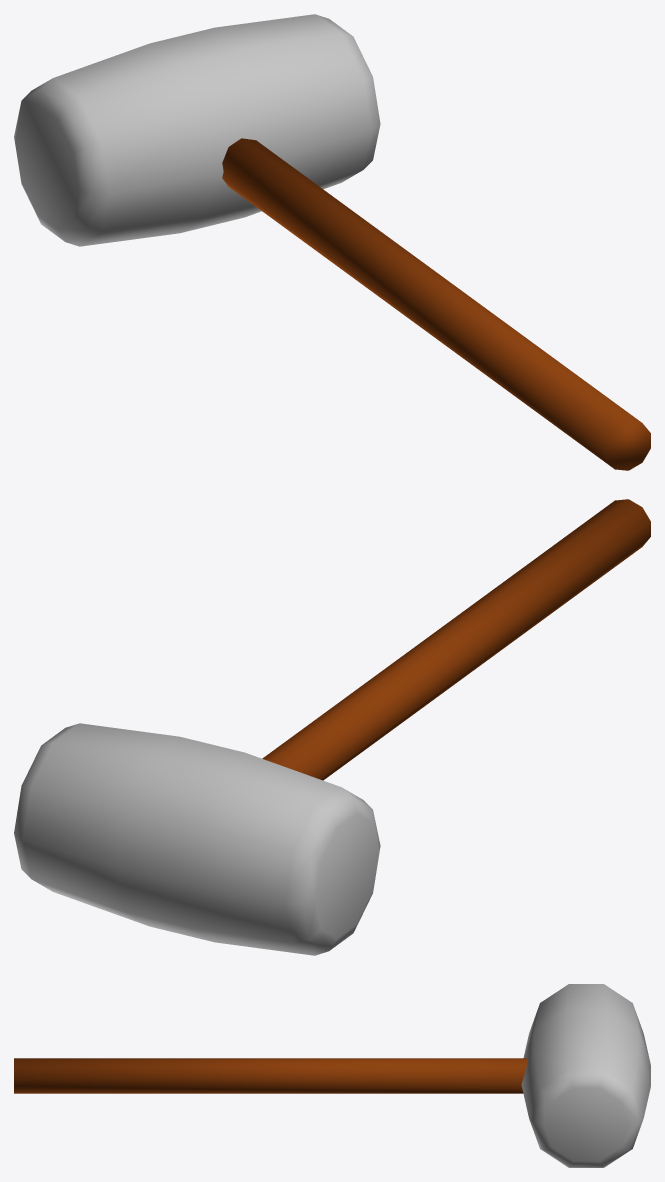
Rendered from Hammer_03.fbx.
3 renders of one model, top to bottom at view 1: azimuth 30°, elevation 25°; view 2: azimuth 150°, elevation 25°; view 3: azimuth 270°, elevation 25°, orthographic. The views are drawn at different scales.
Visible parts, largest first — view 1: Hammer_03; view 2: Hammer_03; view 3: Hammer_03.
Boxes of the visible parts, bbox=[...] form: Hammer_03: bbox=[14, 14, 650, 470]; Hammer_03: bbox=[14, 499, 650, 955]; Hammer_03: bbox=[14, 984, 650, 1167].
Size of the model in its own units: 53.37 by 28.52 by 148.
